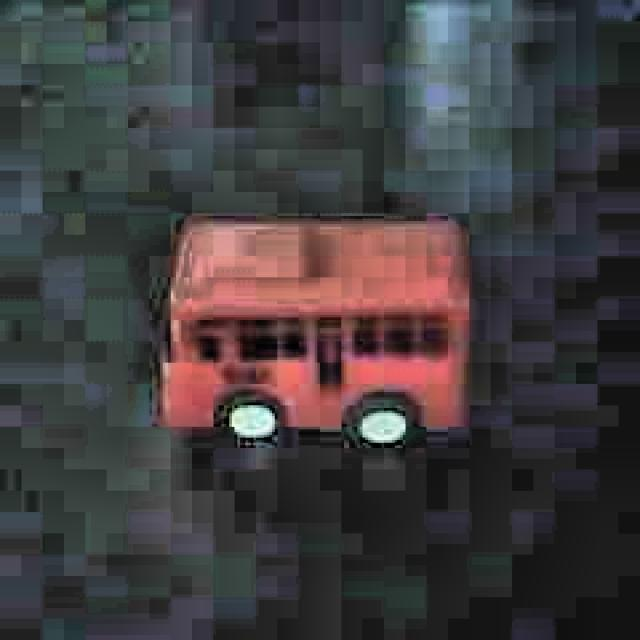bus: (146, 206, 482, 458)
